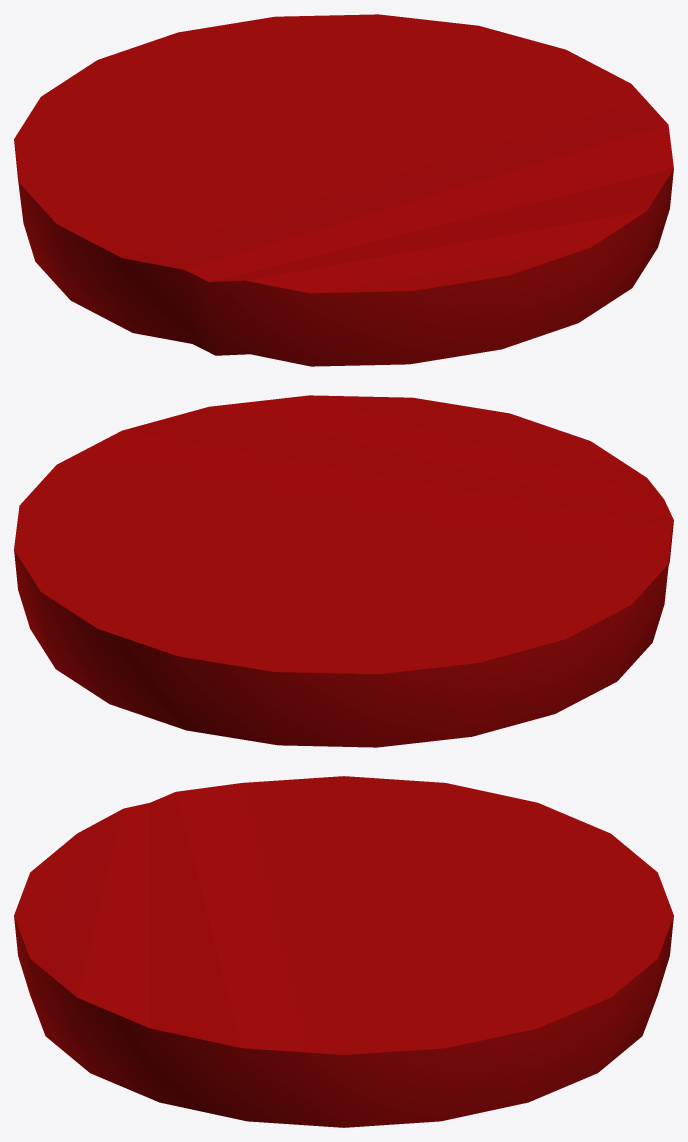
File: TomaSlice5.fbx
3 views of the same model, one above another, from view 1: azimuth 30°, elevation 25°; view 2: azimuth 150°, elevation 25°; view 3: azimuth 270°, elevation 25° (orthographic).
Parts seen in each view (by area): view 1: TomatoSlice5; view 2: TomatoSlice5; view 3: TomatoSlice5.
Part boxes in pixels (x1=…): TomatoSlice5: x1=14, y1=14, x2=673, y2=366; TomatoSlice5: x1=14, y1=395, x2=673, y2=747; TomatoSlice5: x1=14, y1=776, x2=673, y2=1127.
Bounding box in the file's own units: 2 × 0.2843 × 2.
